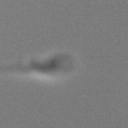normal: (1, 57, 39, 81)
